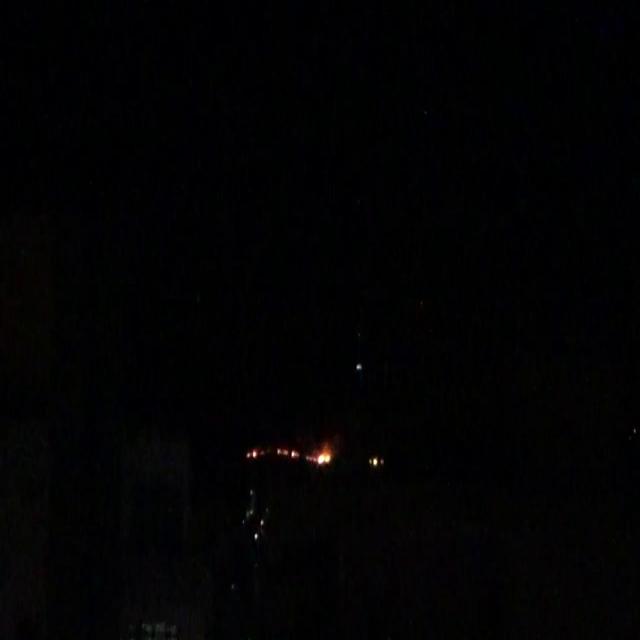Fire: (308, 445, 332, 467), (278, 446, 296, 461)
